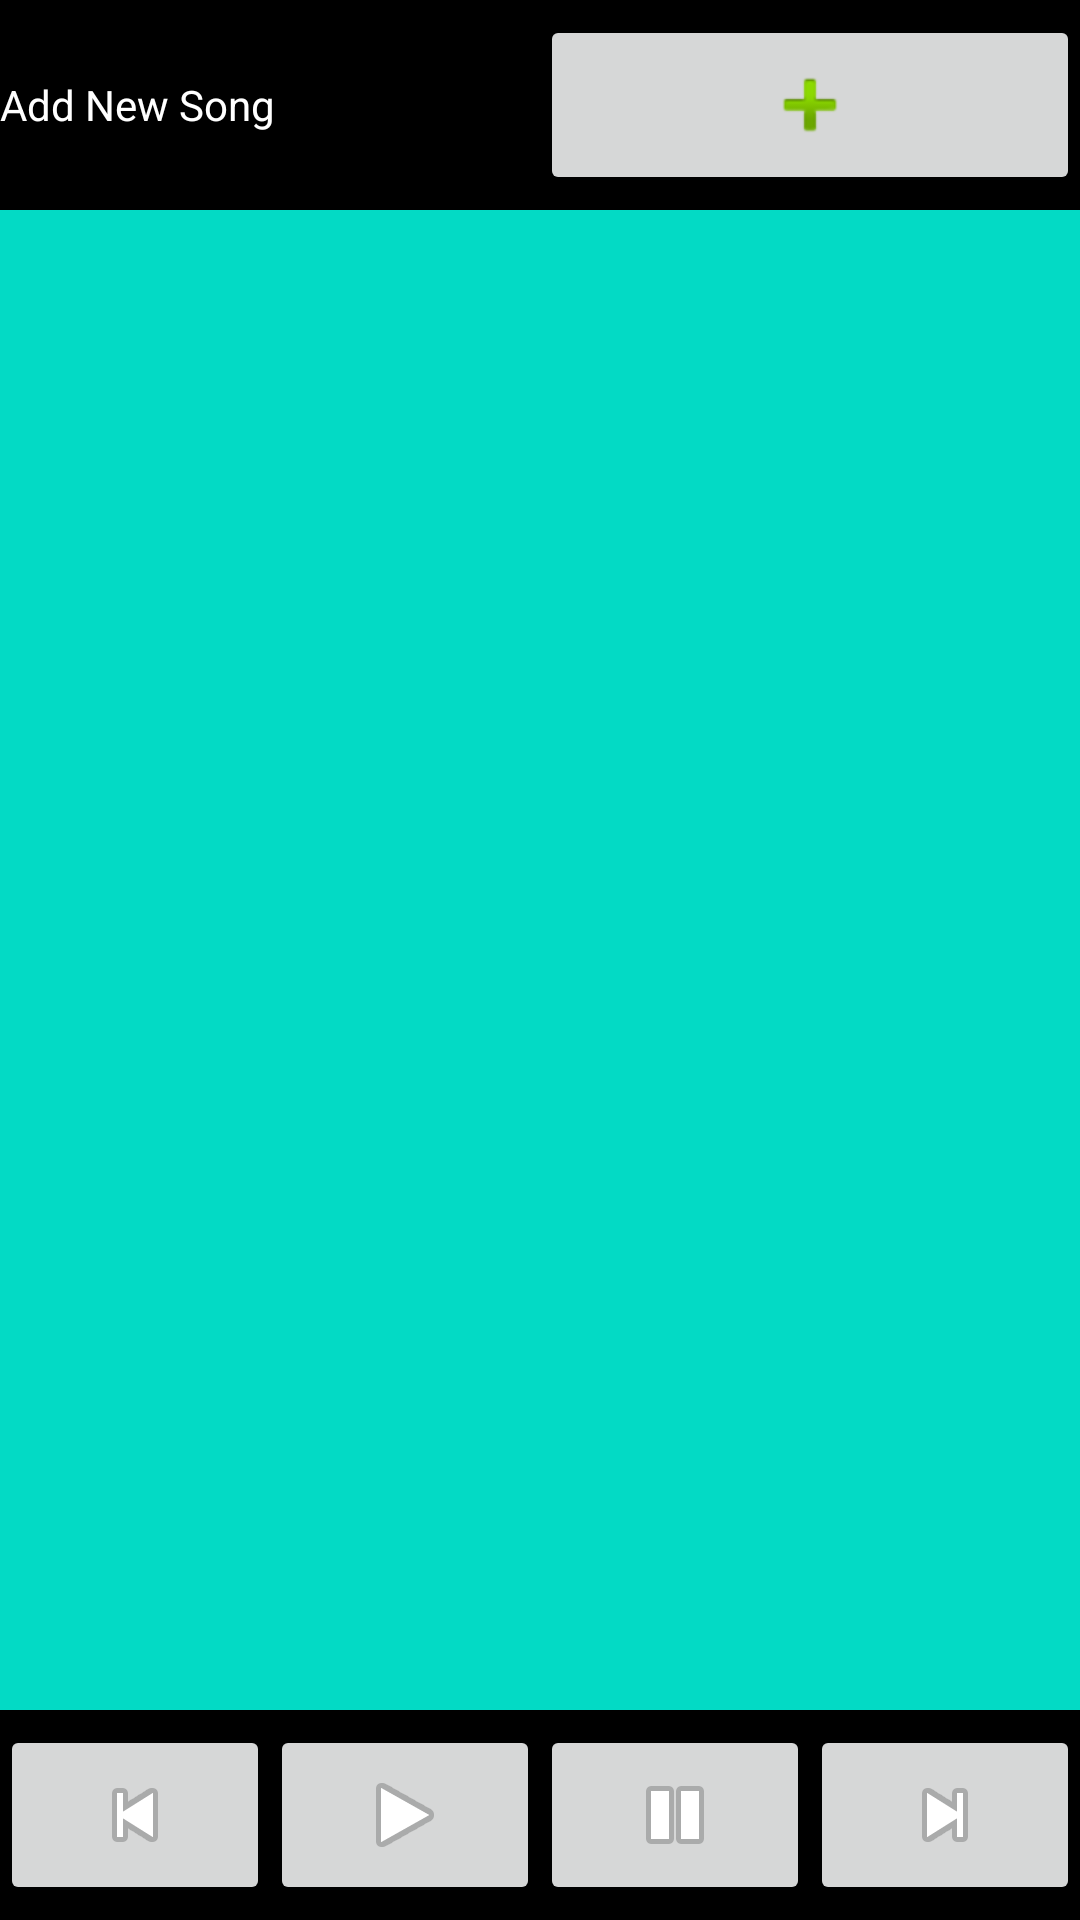

Named icons in this screenshot (1080 × 1920) and their bounding boxes, (x1, y1, x2, y2):
next: (822, 1743, 1068, 1887)
pause: (552, 1743, 798, 1887)
play: (282, 1743, 528, 1887)
previous: (12, 1743, 258, 1887)
